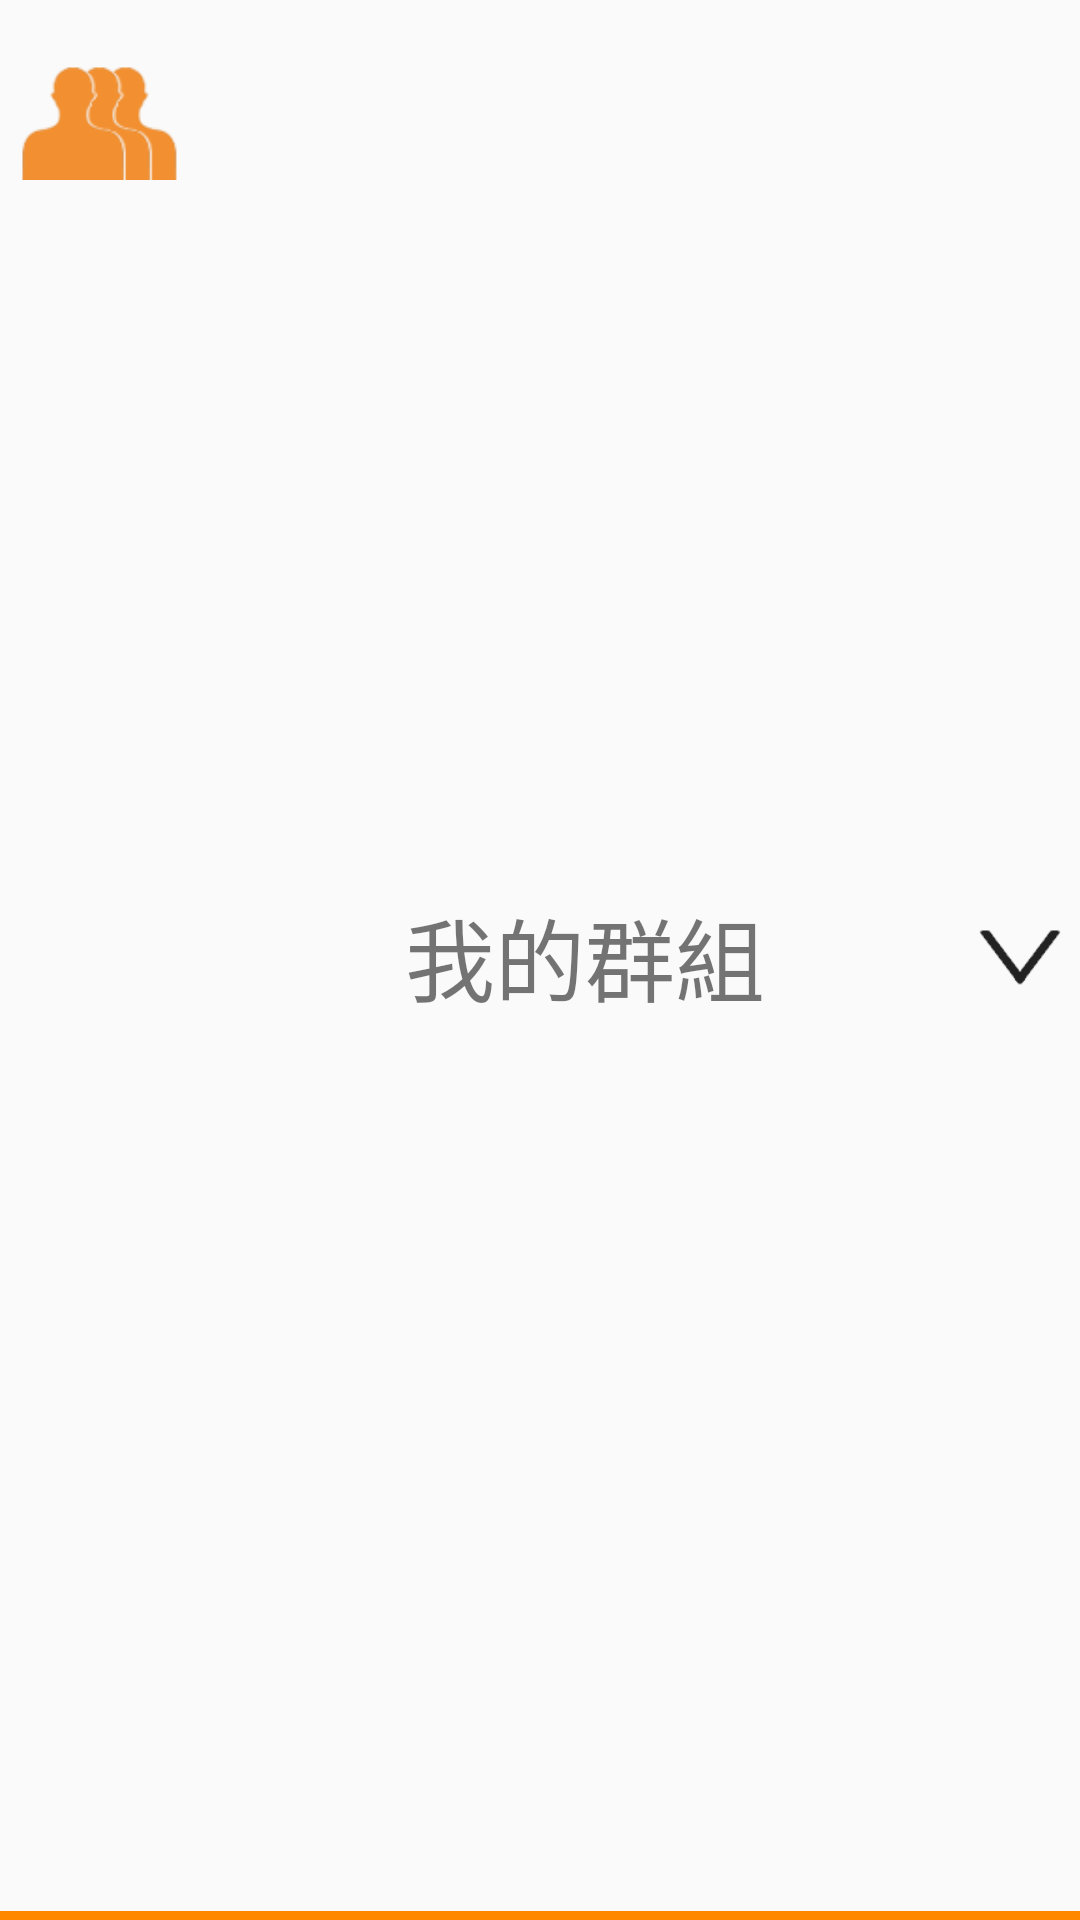

Where icons sit on this 1080px×1920px app screen, as (x1, y1, x2, y2):
groupopen: (980, 930, 1060, 985)
mygroup: (22, 67, 177, 180)
